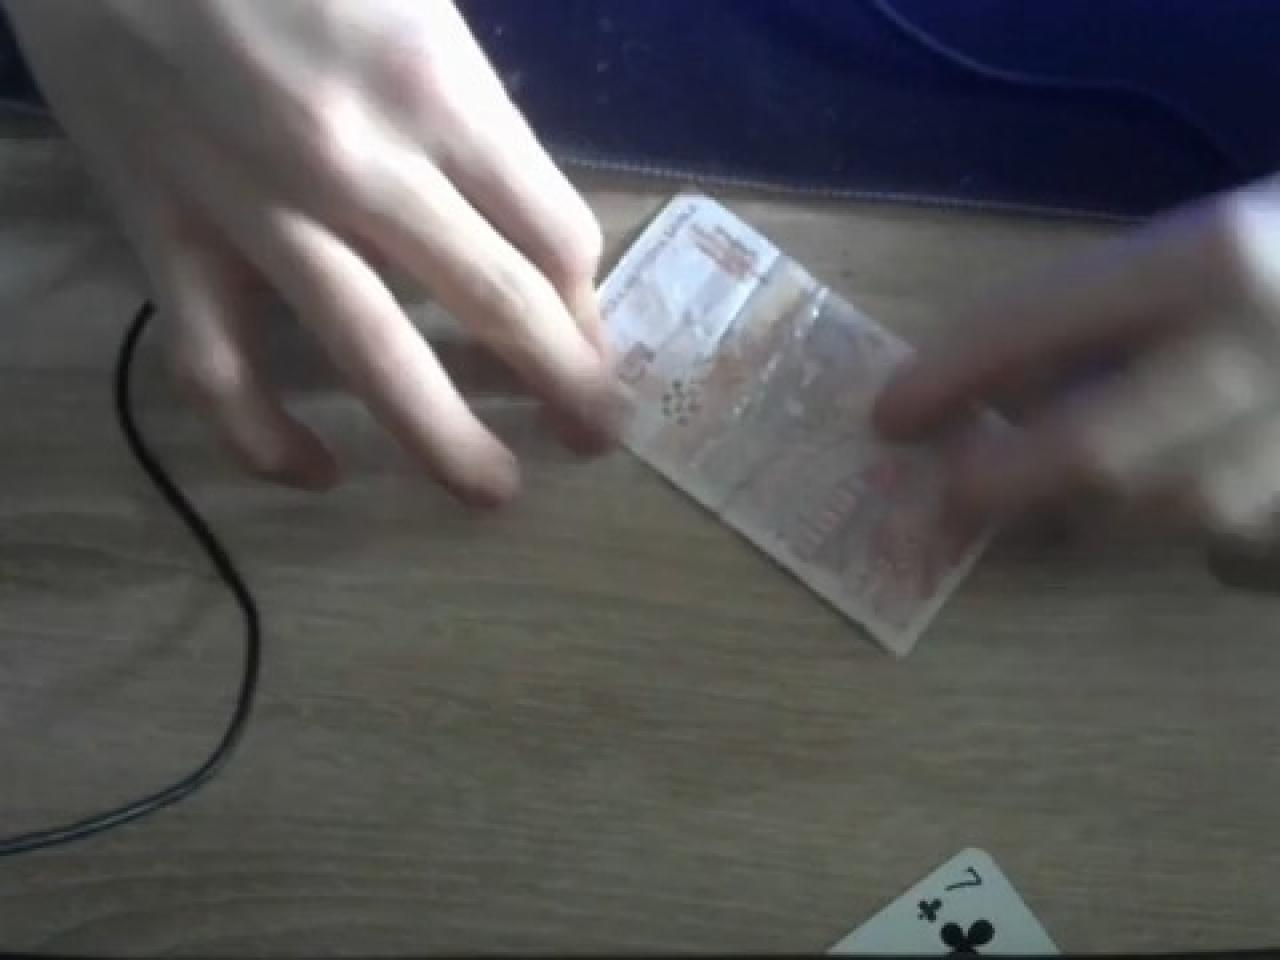5leva: (598, 195, 1011, 658)
